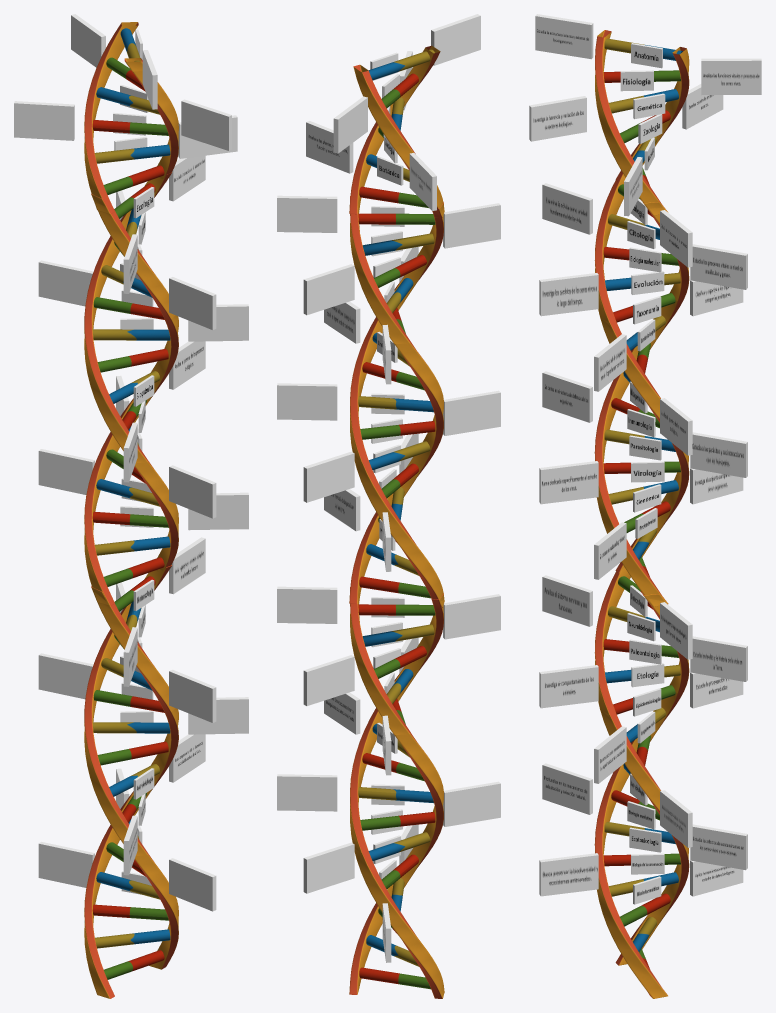
File: modelo.glb
3 views of the same model, side by side, from view 1: azimuth 30°, elevation 25°; view 2: azimuth 150°, elevation 25°; view 3: azimuth 270°, elevation 25° (orthographic).
Parts seen in each view (by area): view 1: node_id45_1.002, node_id45_1.001, node_id45_1.003, Cubo.034, Cubo.049, Cubo.008, Cubo.033, Cubo.020, Cubo.040, Cubo.007, Cubo.019, Cubo.050 (+15 smaller); view 2: node_id45_1.002, node_id45_1.001, node_id45_1.003, Cubo.010, Cubo.047, Cubo.037, Cubo.022, Cubo.036, Cubo.023, Cubo.011, Cubo.046, Cubo.048 (+11 smaller); view 3: node_id45_1.002, node_id45_1.001, node_id45_1.003, Cubo.032, Cubo.007, Cubo.019, Cubo.050, Cubo.041, Cubo.031, Cubo.033, Cubo.038, Cubo.009 (+39 smaller).
Boxes of the visible parts, bbox=[...] form: node_id45_1.002: bbox=[84, 565, 178, 998]; node_id45_1.001: bbox=[84, 172, 178, 605]; node_id45_1.003: bbox=[84, 22, 178, 214]; Cubo.034: bbox=[14, 101, 74, 140]; Cubo.049: bbox=[38, 841, 94, 887]; Cubo.008: bbox=[38, 449, 94, 494]; Cubo.033: bbox=[181, 99, 231, 150]; Cubo.020: bbox=[38, 653, 93, 699]; Cubo.040: bbox=[38, 260, 93, 306]; Cubo.007: bbox=[169, 465, 216, 518]; Cubo.019: bbox=[169, 669, 216, 722]; Cubo.050: bbox=[169, 858, 216, 911]; node_id45_1.002: bbox=[349, 587, 444, 998]; node_id45_1.001: bbox=[349, 196, 444, 607]; node_id45_1.003: bbox=[349, 45, 444, 217]; Cubo.010: bbox=[277, 383, 337, 420]; Cubo.047: bbox=[277, 774, 337, 811]; Cubo.037: bbox=[277, 195, 337, 232]; Cubo.022: bbox=[277, 586, 337, 623]; Cubo.036: bbox=[443, 203, 500, 248]; Cubo.023: bbox=[443, 594, 500, 639]; Cubo.011: bbox=[443, 390, 500, 435]; Cubo.046: bbox=[443, 781, 500, 826]; Cubo.048: bbox=[303, 842, 354, 893]; node_id45_1.002: bbox=[594, 568, 689, 998]; node_id45_1.001: bbox=[594, 173, 689, 606]; node_id45_1.003: bbox=[595, 30, 689, 215]; Cubo.032: bbox=[701, 58, 761, 95]; Cubo.007: bbox=[539, 461, 598, 504]; Cubo.019: bbox=[539, 665, 598, 708]; Cubo.050: bbox=[539, 853, 598, 896]; Cubo.041: bbox=[539, 273, 598, 316]; Cubo.031: bbox=[535, 14, 593, 59]; Cubo.033: bbox=[529, 96, 586, 141]; Cubo.038: bbox=[690, 244, 747, 289]; Cubo.009: bbox=[690, 432, 747, 477].
Bounding box in the file's own units: 47.38 × 243 × 53.97.
Materials: 59 (59 with a texture image).
